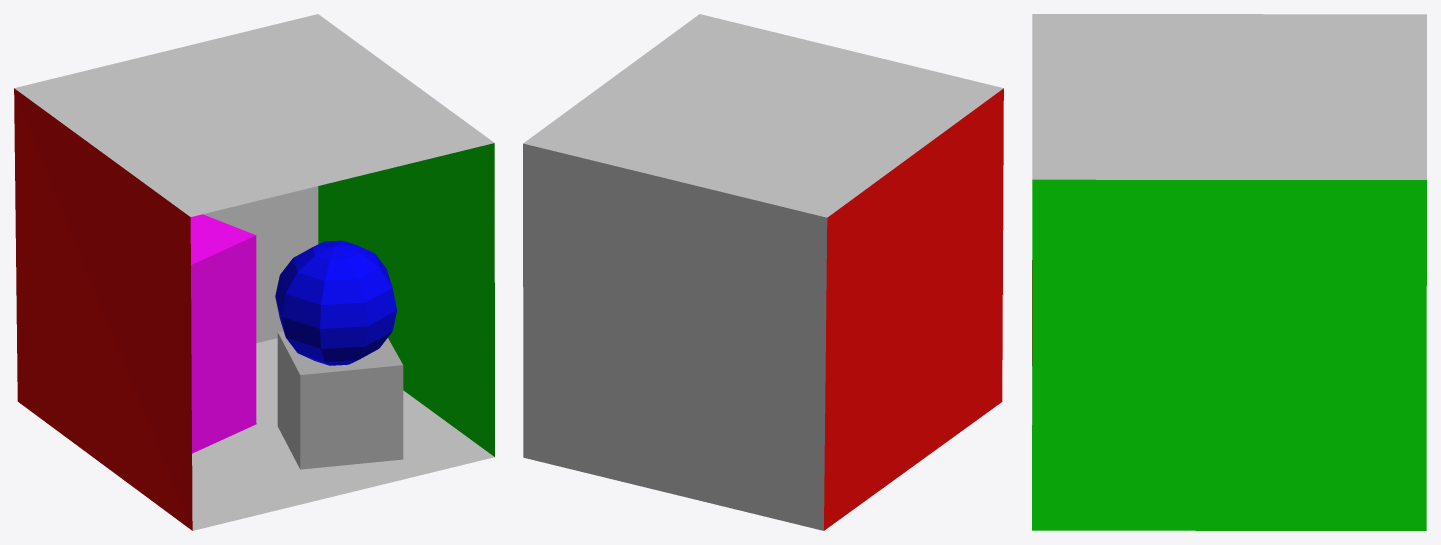
The model's file is combined.obj.
The picture shows the model from 3 angles, left to right: view 1: azimuth 30°, elevation 25°; view 2: azimuth 150°, elevation 25°; view 3: azimuth 270°, elevation 25°; orthographic projection. The views are drawn at different scales.
Parts seen in each view (by area): view 1: left_wall, ceiling, right_wall, floor, tall_box, short_box, sphere, back_wall; view 2: back_wall, left_wall, ceiling; view 3: right_wall, ceiling.
Boxes of the visible parts, x1,y1,x2,y2 form: left_wall: (14, 88, 192, 530); ceiling: (14, 14, 494, 216); right_wall: (318, 143, 494, 456); floor: (192, 338, 494, 530); tall_box: (190, 214, 256, 453); short_box: (277, 331, 403, 469); sphere: (275, 240, 397, 365); back_wall: (203, 186, 318, 343); back_wall: (523, 143, 827, 530); left_wall: (824, 88, 1003, 530); ceiling: (523, 14, 1003, 217); right_wall: (1032, 179, 1426, 530); ceiling: (1032, 14, 1426, 179).
Bounding box in the file's own units: 5.56 × 5.49 × 5.6.
